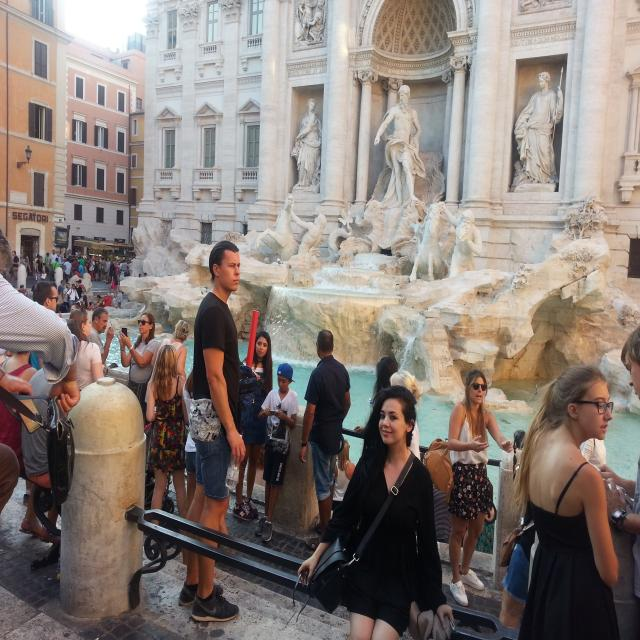body: (248, 0, 625, 294), (288, 380, 457, 640), (506, 362, 622, 640), (176, 238, 248, 624), (1, 227, 82, 515), (422, 365, 515, 610), (598, 324, 640, 640), (296, 326, 354, 554), (0, 349, 61, 545), (476, 491, 552, 639), (145, 343, 190, 536), (231, 329, 275, 522), (254, 360, 300, 544), (183, 367, 218, 580), (21, 368, 62, 547), (116, 312, 159, 412), (353, 355, 399, 438), (67, 307, 106, 394), (388, 370, 424, 461), (40, 249, 134, 283), (28, 280, 59, 372), (150, 319, 190, 381), (330, 439, 356, 520), (88, 306, 114, 378), (66, 283, 80, 313), (20, 256, 32, 284), (49, 257, 61, 283), (35, 256, 46, 283), (109, 270, 118, 301), (63, 258, 72, 284), (63, 282, 70, 313), (91, 294, 104, 308), (74, 280, 83, 300), (102, 291, 112, 308), (117, 281, 123, 309), (105, 257, 111, 284), (34, 254, 40, 280), (94, 256, 100, 282), (75, 261, 84, 278), (44, 252, 50, 276), (89, 258, 95, 282), (82, 254, 89, 274), (50, 249, 59, 264), (97, 256, 102, 282), (109, 260, 117, 276), (57, 279, 64, 297), (102, 257, 107, 282), (71, 258, 79, 273), (12, 250, 19, 267), (78, 255, 84, 274), (80, 286, 87, 302), (120, 259, 128, 273), (110, 293, 117, 308), (29, 285, 35, 301), (87, 302, 93, 314), (58, 254, 64, 266), (83, 294, 88, 308), (18, 284, 25, 294), (138, 272, 148, 279), (78, 279, 84, 288)
